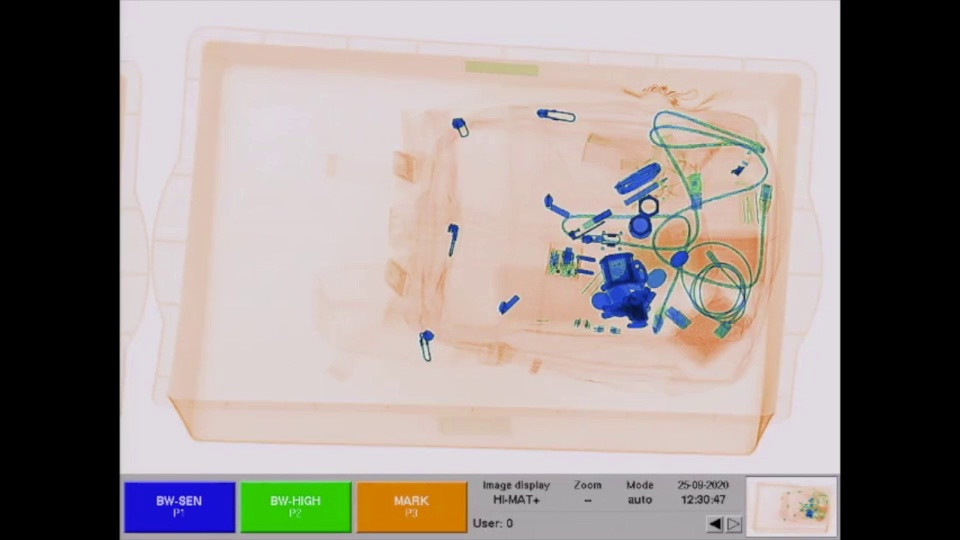tray_img: (144, 22, 827, 462)
